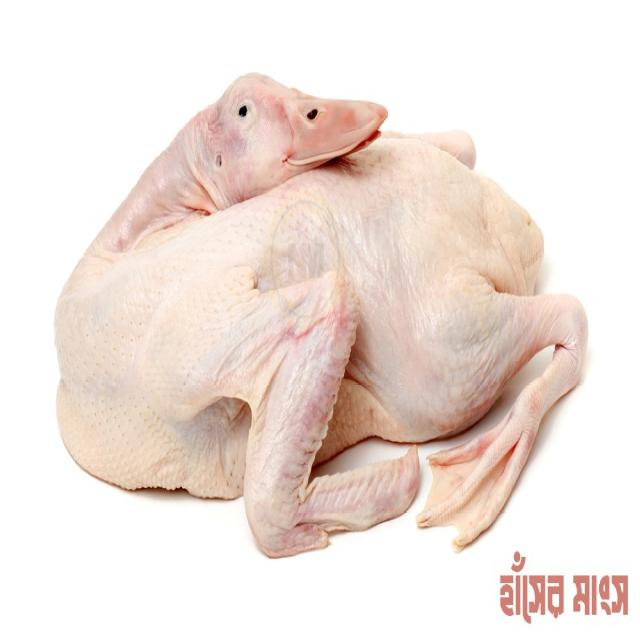duck: (55, 75, 588, 556), (55, 77, 588, 557)
